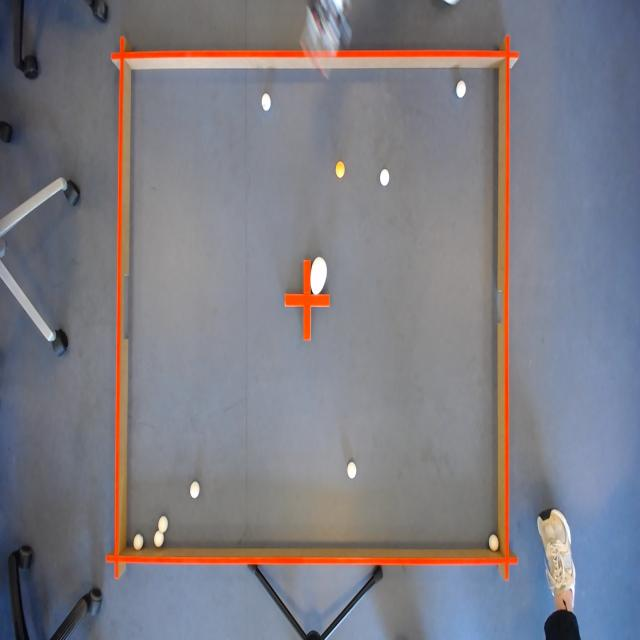cross: (283, 257, 331, 345)
egg: (308, 256, 328, 295)
orange_ball: (334, 157, 346, 182)
white_ball: (345, 459, 359, 484), (259, 91, 273, 115), (132, 529, 145, 553), (454, 76, 467, 100), (488, 530, 500, 554), (157, 514, 170, 534), (188, 480, 200, 501), (380, 166, 390, 190), (152, 530, 165, 548)
